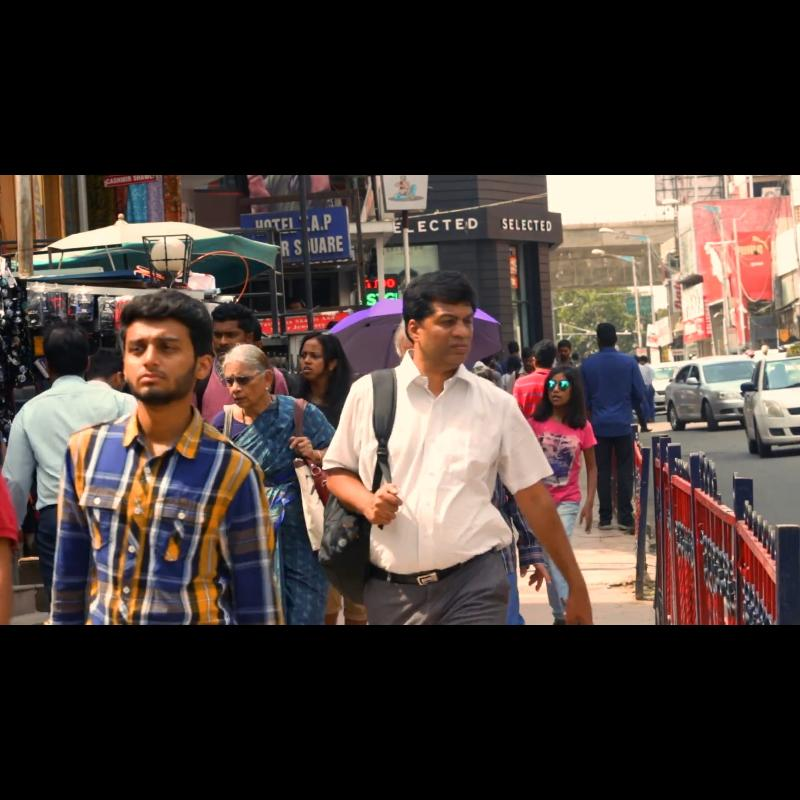Pant: (592, 436, 644, 538)
Sari: (209, 397, 334, 625)
Tshirt: (532, 412, 599, 503)
shirt: (319, 350, 555, 569), (60, 430, 276, 624), (585, 352, 663, 444)
